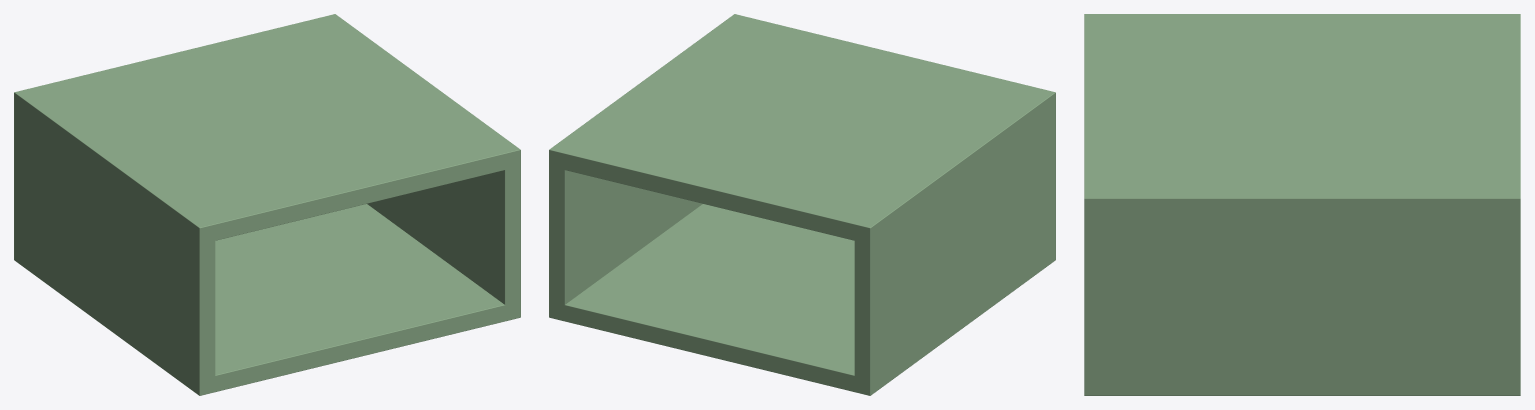
The model's file is MOD-1X05-A-O-SA.glb.
3 views of the same model, side by side, from view 1: azimuth 30°, elevation 25°; view 2: azimuth 150°, elevation 25°; view 3: azimuth 270°, elevation 25° (orthographic). The views are drawn at different scales.
Bounding box in the file's own units: 360 × 180 × 360.
